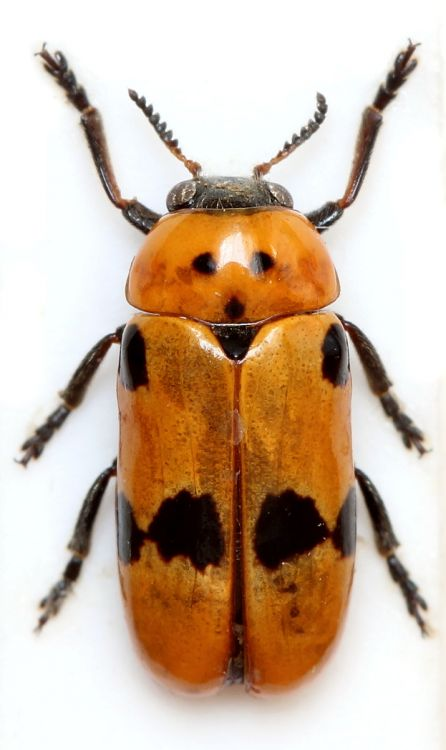Clytra_novempunctata: (11, 28, 439, 699)
